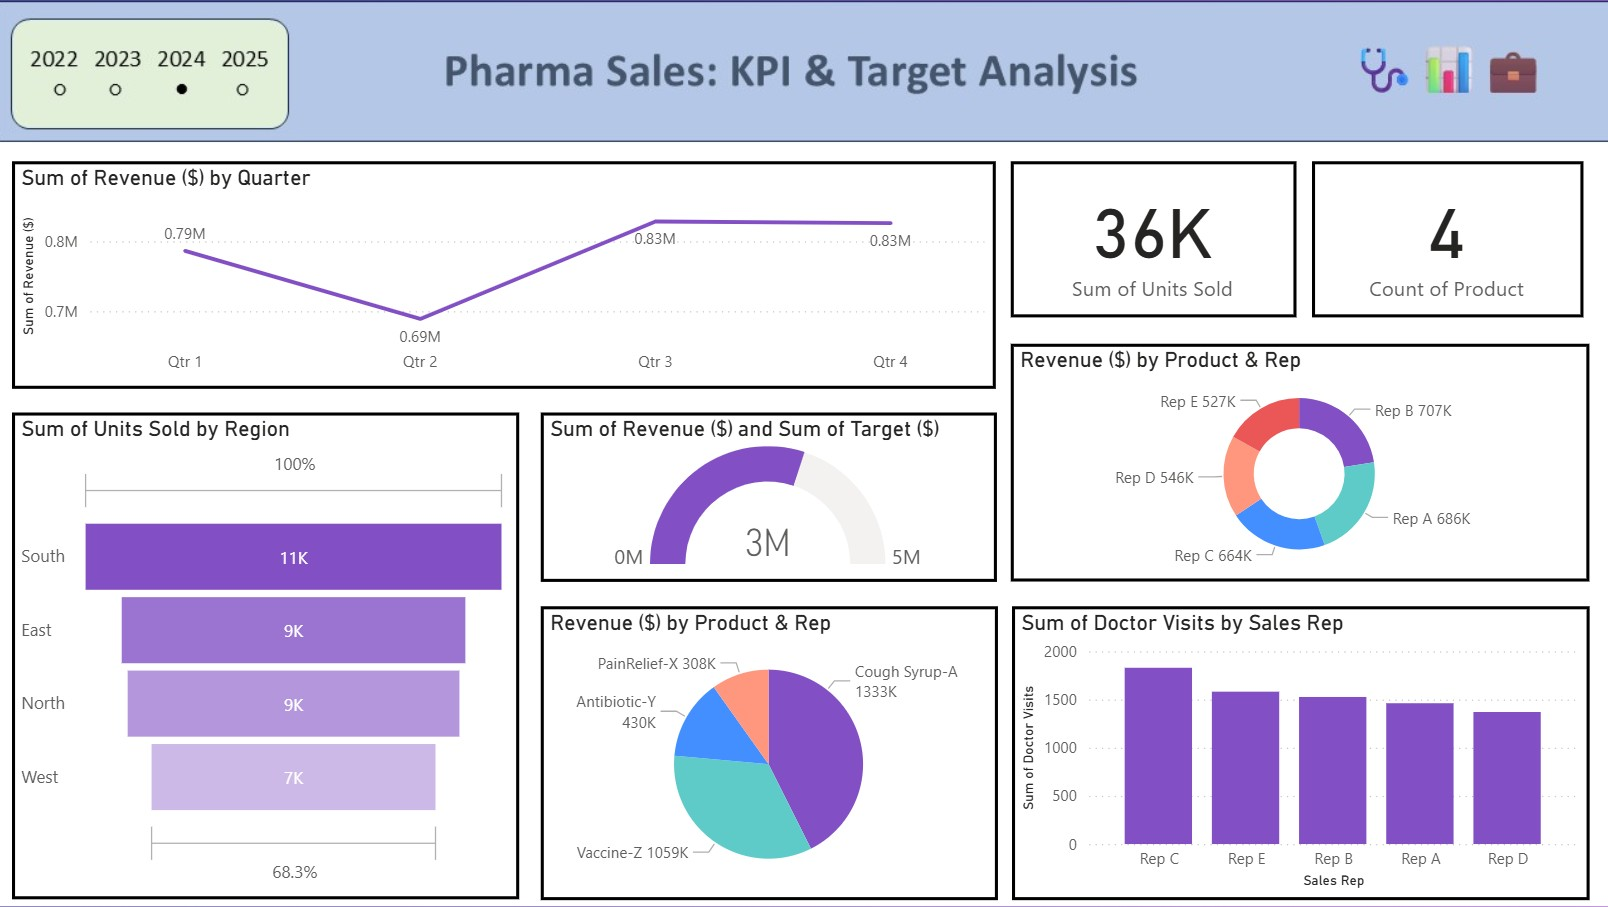

Layout of this report page (visuals, bound fields, positions):
{"tool":"powerbi","page":{"name":"Page 2","canvas":[1280,720],"ordinal":1},"visuals":[{"type":"image","box":[0,0,1280,720],"z":0},{"type":"lineChart","fields":{"Category":["Pharma_Sales_ZS.Month.Variation.Date Hierarchy.Quarter"],"Y":["Sum(Pharma_Sales_ZS.Revenue ($))"]},"box":[20,130,771.2,178.8],"z":1},{"type":"card","fields":{"Values":["Sum(Pharma_Sales_ZS.Units Sold)"]},"box":[802.5,130,223.8,122.5],"z":2},{"type":"card","fields":{"Values":["Count(Pharma_Sales_ZS.Product)"]},"box":[1038.8,130,212.5,122.5],"z":3},{"type":"funnel","fields":{"Category":["Pharma_Sales_ZS.Region","Pharma_Sales_ZS.Product","Pharma_Sales_ZS.Sales Rep"],"Y":["Sum(Pharma_Sales_ZS.Units Sold)"]},"box":[20,327.5,397.5,381.2],"z":4},{"type":"gauge","fields":{"Y":["Sum(Pharma_Sales_ZS.Revenue ($))"],"MaxValue":["Sum(Pharma_Sales_ZS.Target ($))"]},"box":[433.8,327.5,357.5,132.5],"z":5},{"type":"pieChart","title":"Revenue ($) by Product & Rep","fields":{"Category":["Pharma_Sales_ZS.Product"],"Y":["Sum(Pharma_Sales_ZS.Revenue ($))"]},"box":[433.8,478.8,358.8,230],"z":6},{"type":"donutChart","title":"Revenue ($) by Product & Rep","fields":{"Category":["Pharma_Sales_ZS.Sales Rep"],"Y":["Sum(Pharma_Sales_ZS.Revenue ($))"]},"box":[802.5,273.8,453.8,186.2],"z":7},{"type":"lineClusteredColumnComboChart","fields":{"Y":["Sum(Pharma_Sales_ZS.Doctor Visits)"],"Category":["Pharma_Sales_ZS.Sales Rep"]},"box":[803.8,478.8,452.5,230],"z":8}]}

Visuals, with their boxes in screenshot pixels (x1, y1, x2, y2), scaled from the page's 1280x720 canvas onto the 1608x907 screenshot:
image: BBox(0, 0, 1607, 906)
lineChart - Pharma_Sales_ZS.Month.Variation.Date Hierarchy.Quarter x Sum(Pharma_Sales_ZS.Revenue ($)): BBox(25, 164, 994, 389)
card - Sum(Pharma_Sales_ZS.Units Sold): BBox(1008, 164, 1289, 318)
card - Count(Pharma_Sales_ZS.Product): BBox(1305, 164, 1572, 318)
funnel - Pharma_Sales_ZS.Region x Pharma_Sales_ZS.Product: BBox(25, 413, 524, 893)
gauge - Sum(Pharma_Sales_ZS.Revenue ($)) x Sum(Pharma_Sales_ZS.Target ($)): BBox(545, 413, 994, 579)
"Revenue ($) by Product & Rep" pieChart: BBox(545, 603, 996, 893)
"Revenue ($) by Product & Rep" donutChart: BBox(1008, 345, 1578, 579)
lineClusteredColumnComboChart - Sum(Pharma_Sales_ZS.Doctor Visits) x Pharma_Sales_ZS.Sales Rep: BBox(1010, 603, 1578, 893)
